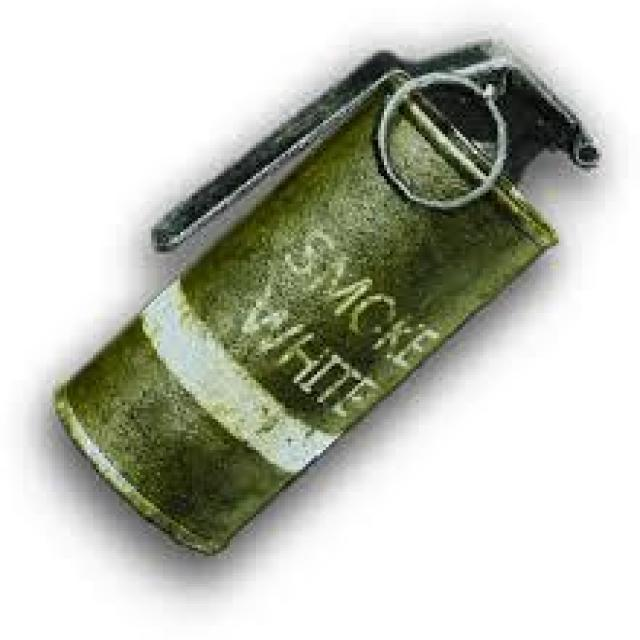grenade: (48, 25, 604, 562)
